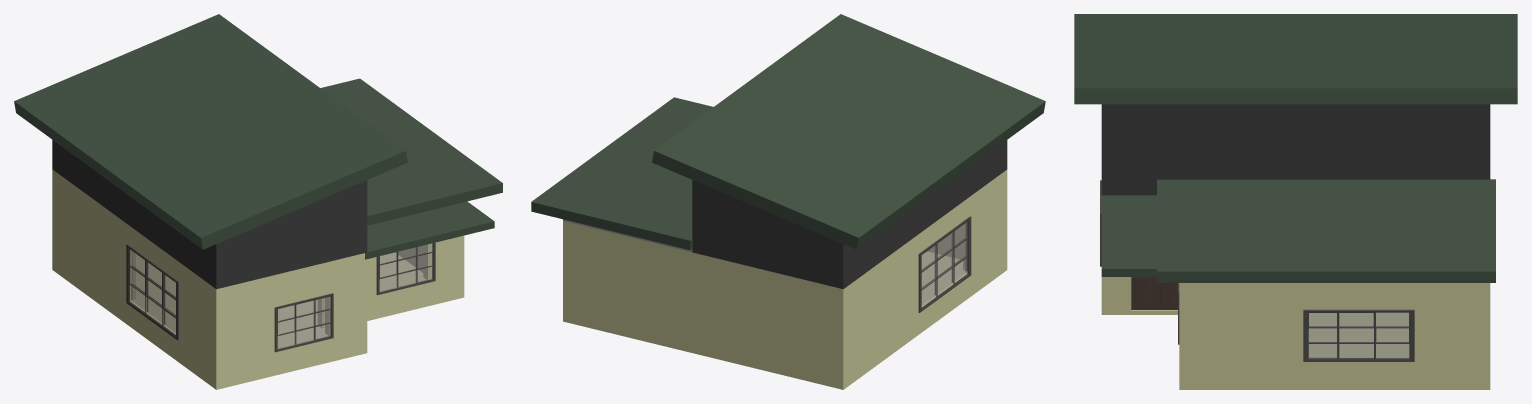
The model's file is Street House 2.fbx.
3 renders of one model, left to right at view 1: azimuth 30°, elevation 25°; view 2: azimuth 150°, elevation 25°; view 3: azimuth 270°, elevation 25°, orthographic. The views are drawn at different scales.
Parts seen in each view (by area): view 1: House_2, polySurface24, polySurface25, polySurface26; view 2: House_2, polySurface24; view 3: House_2, polySurface23, polySurface27.
Boxes of the visible parts, box(x1,y1,x2,y2) form: House_2: box(14, 14, 502, 389); polySurface24: box(126, 244, 178, 340); polySurface25: box(274, 293, 333, 352); polySurface26: box(376, 242, 435, 295); House_2: box(531, 14, 1045, 389); polySurface24: box(918, 216, 971, 312); House_2: box(1074, 14, 1517, 389); polySurface23: box(1303, 309, 1414, 361); polySurface27: box(1131, 277, 1177, 309).
Bounding box in the file's own units: 41.41 × 23.98 × 39.78.
